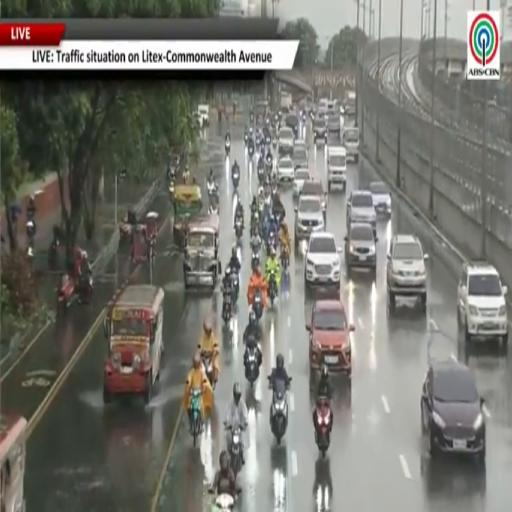car: (421, 361, 485, 463), (458, 262, 508, 347), (306, 300, 354, 376), (387, 234, 428, 311), (305, 232, 340, 290), (345, 223, 377, 278), (295, 197, 324, 248), (346, 190, 376, 233), (300, 180, 327, 221), (327, 147, 347, 191), (370, 182, 391, 217), (342, 126, 359, 163), (293, 168, 311, 197), (278, 126, 294, 157), (276, 157, 294, 182), (292, 142, 308, 168), (313, 115, 327, 143), (285, 112, 300, 138), (328, 109, 341, 137), (197, 104, 209, 127), (318, 99, 329, 111)
jeepney: (104, 285, 164, 404), (184, 215, 220, 289), (0, 415, 26, 511), (173, 185, 202, 248)
motorcycle: (268, 376, 288, 445), (57, 272, 93, 310), (315, 398, 331, 457), (225, 424, 242, 476), (190, 390, 202, 446), (245, 340, 259, 387), (201, 354, 215, 389), (268, 270, 278, 308), (212, 494, 234, 511), (26, 219, 35, 258), (252, 290, 263, 321), (222, 291, 232, 324), (231, 269, 239, 305), (267, 231, 277, 253), (281, 246, 289, 273), (207, 181, 218, 197), (234, 217, 242, 238), (251, 212, 259, 232), (252, 249, 260, 268), (233, 167, 240, 188), (265, 154, 273, 172), (169, 179, 175, 201), (258, 164, 264, 184), (209, 203, 218, 215), (225, 138, 230, 155), (255, 136, 261, 150), (248, 144, 254, 157), (272, 138, 277, 150), (301, 110, 306, 122), (265, 136, 271, 146), (244, 133, 248, 146), (310, 109, 314, 121), (249, 126, 253, 137), (250, 114, 254, 123)
truck: (343, 90, 356, 116), (280, 91, 292, 111)
